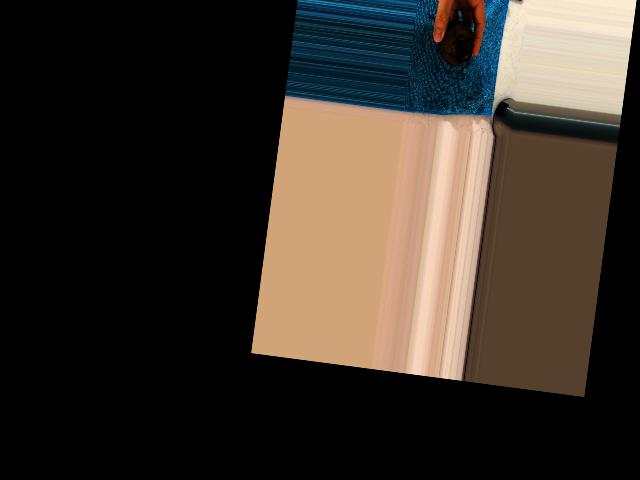beet: (419, 13, 476, 80)
